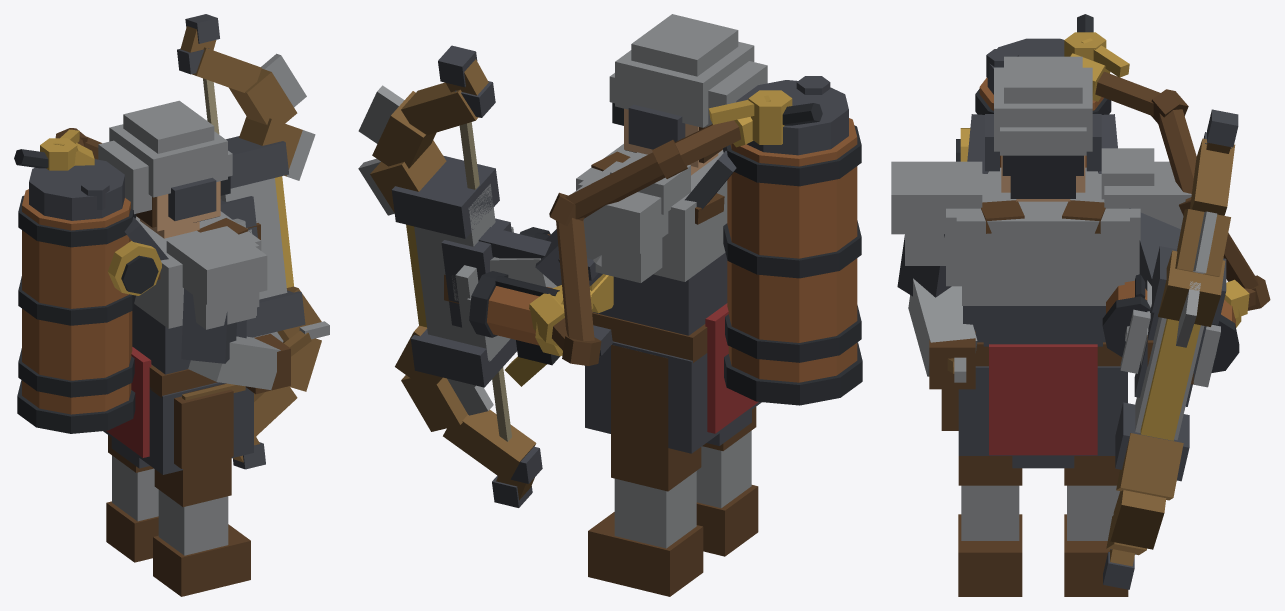
File: pressurebow.glb
3 views of the same model, side by side, from view 1: azimuth 30°, elevation 25°; view 2: azimuth 150°, elevation 25°; view 3: azimuth 270°, elevation 25° (orthographic). The views are drawn at different scales.
Visible parts, largest first — view 1: Cylinder, Cube.046, Cube.007, Cylinder.004, Cube.050, Cube.031, Cube.012, Cube.006, Cube.032, Cube.044, Cube.011, Cube.054 (+42 smaller); view 2: Cylinder, Cube, Cube.003, Cube.014, Cube.010, Cube.031, Cube.065, Cube.054, Cube.002, Cube.032, Cube.011, Cube.041 (+48 smaller); view 3: Cube.018, Cube.015, Cube.016, Cube.046, Cube.017, Cube.011, Cube.056, Cube.007, Cube.032, Cube.031, Cube.006, Cube.066 (+50 smaller).
Part boxes in pixels (<box>): Cylinder: <box>22,189,132,414</box>; Cube.046: <box>166,226,267,304</box>; Cube.007: <box>153,524,250,596</box>; Cylinder.004: <box>29,159,124,220</box>; Cube.050: <box>174,389,233,468</box>; Cube.031: <box>109,124,227,197</box>; Cube.012: <box>138,382,253,474</box>; Cube.006: <box>158,490,228,555</box>; Cube.032: <box>123,100,214,153</box>; Cube.044: <box>188,336,280,389</box>; Cube.011: <box>134,216,259,328</box>; Cube.054: <box>220,178,287,299</box>; Cylinder: <box>727,118,857,382</box>; Cube: <box>611,345,701,491</box>; Cube.003: <box>588,512,703,596</box>; Cube.014: <box>585,341,719,453</box>; Cube.010: <box>593,252,727,335</box>; Cube.031: <box>615,41,754,127</box>; Cube.065: <box>391,155,499,238</box>; Cube.054: <box>414,184,510,361</box>; Cube.002: <box>614,471,696,548</box>; Cube.032: <box>631,14,738,76</box>; Cube.011: <box>578,150,727,281</box>; Cube.041: <box>573,161,668,253</box>; Cube.018: <box>989,344,1097,455</box>; Cube.015: <box>956,217,1129,267</box>; Cube.016: <box>962,268,1124,305</box>; Cube.046: <box>891,161,982,234</box>; Cube.017: <box>983,306,1102,346</box>; Cube.011: <box>946,167,1140,286</box>; Cube.056: <box>1140,319,1200,440</box>; Cube.007: <box>958,514,1022,596</box>; Cube.032: <box>1004,56,1082,103</box>; Cube.031: <box>994,67,1092,151</box>; Cube.006: <box>961,485,1019,540</box>; Cube.066: <box>1116,433,1183,500</box>.
Bounding box in the file's own units: 16.92 × 21.14 × 13.98.
